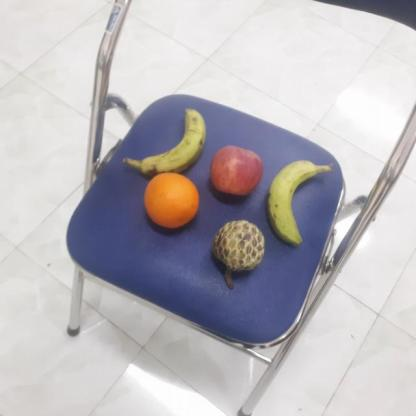annona: (211, 219, 266, 274)
apple: (210, 144, 264, 197)
banana: (135, 103, 209, 175), (263, 160, 325, 244)
orange: (140, 171, 198, 230)
